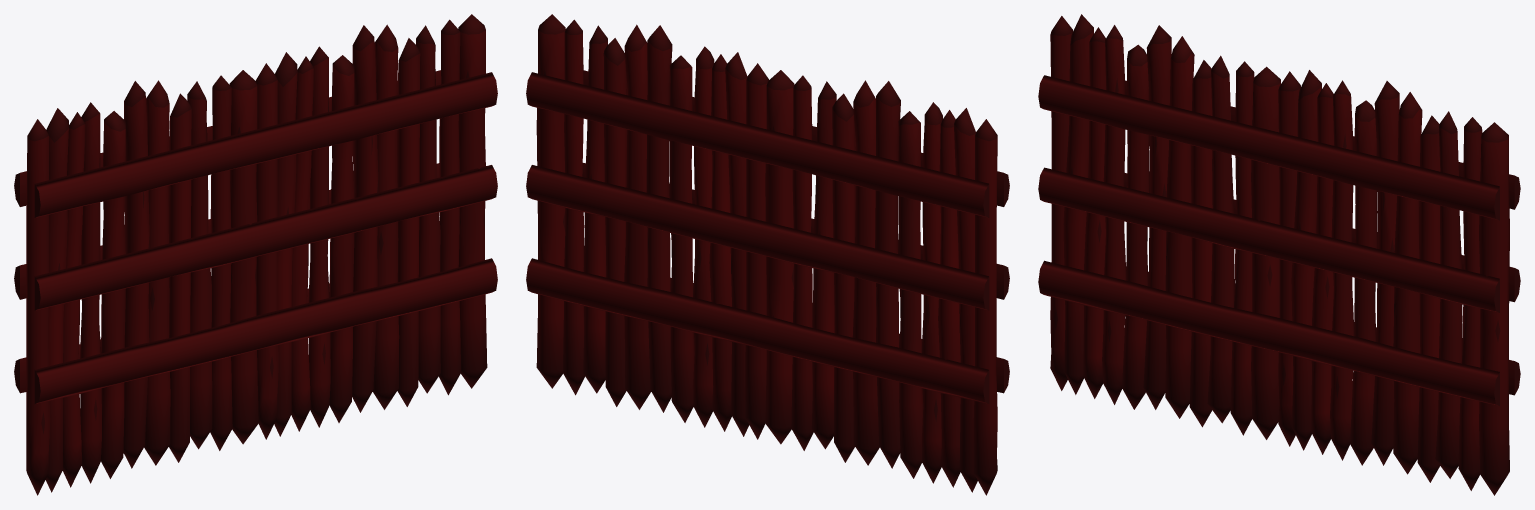
The model's file is Palisade.glb.
3 views of the same model, side by side, from view 1: azimuth 30°, elevation 25°; view 2: azimuth 150°, elevation 25°; view 3: azimuth 330°, elevation 25° (orthographic).
Parts seen in each view (by area): view 1: Palisade; view 2: Palisade; view 3: Palisade.
Part boxes in pixels (<box>): Palisade: <box>14,14,497,495</box>; Palisade: <box>526,14,1009,495</box>; Palisade: <box>1038,14,1520,495</box>.
Size of the model in its own units: 32.06 by 26.29 by 3.38.
